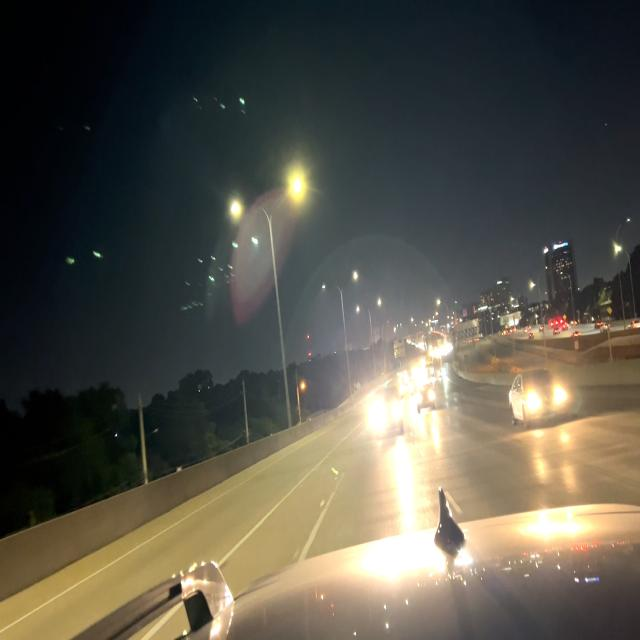back-of-sign: (453, 316, 481, 347), (393, 336, 408, 360)
